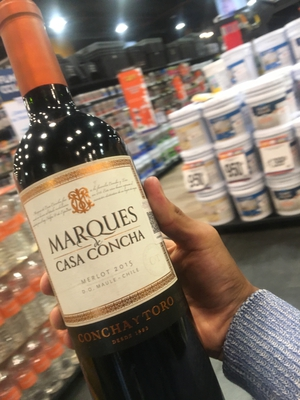marques de casa concha merlot: (1, 10, 196, 382)
